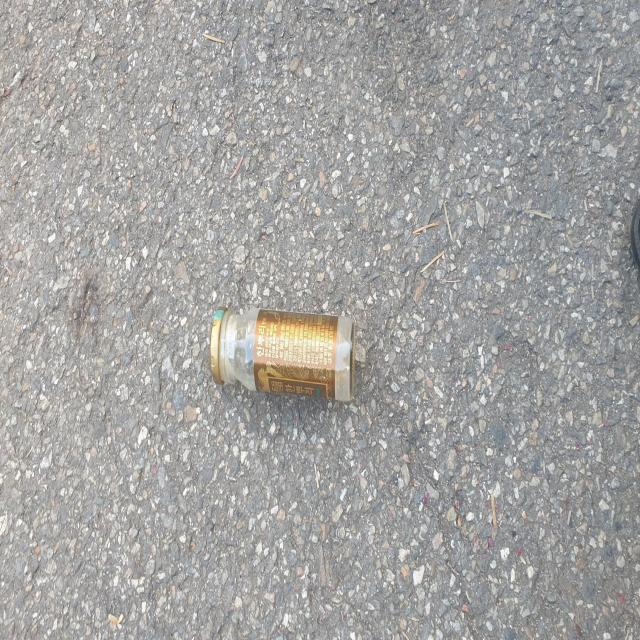glass: (210, 308, 355, 401)
